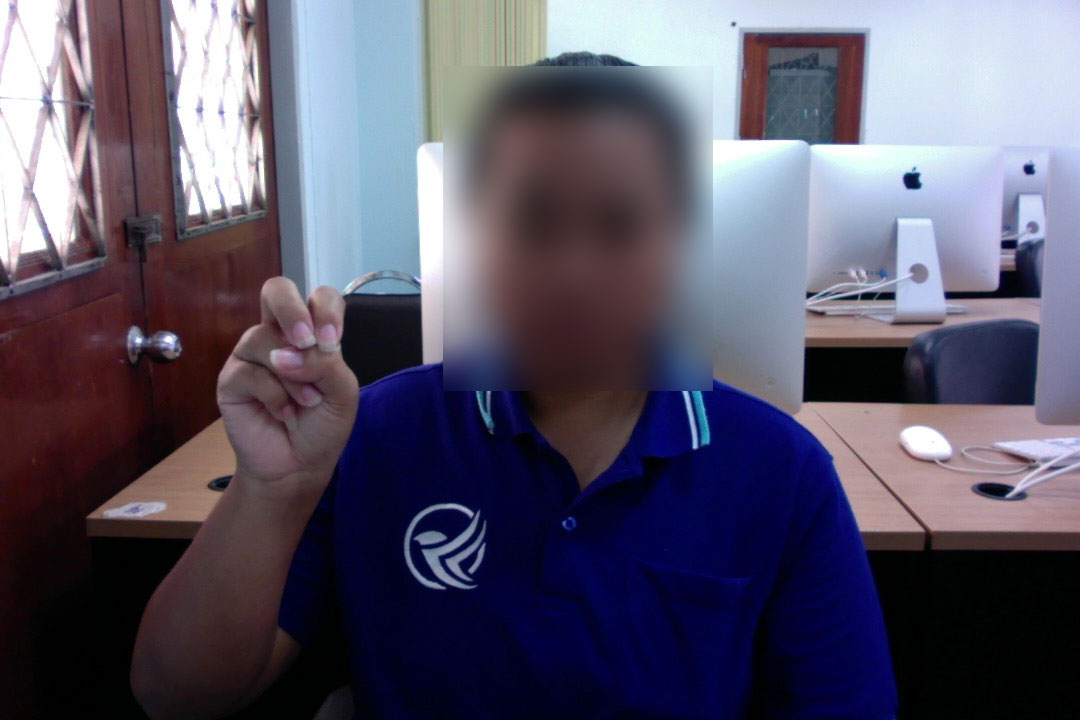nor: (208, 271, 365, 506)
